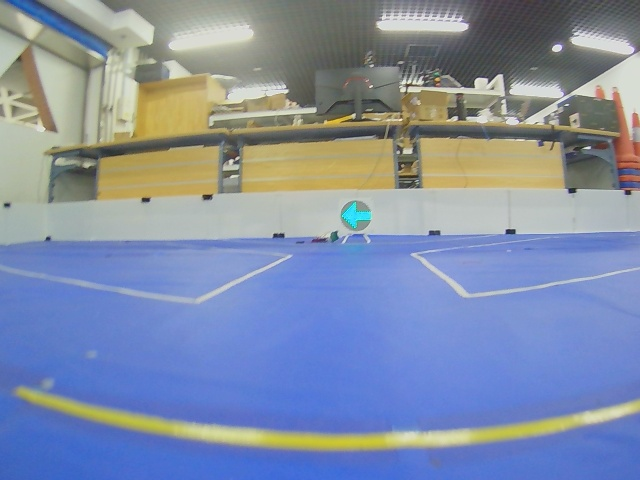left_green: (341, 201, 372, 231)
